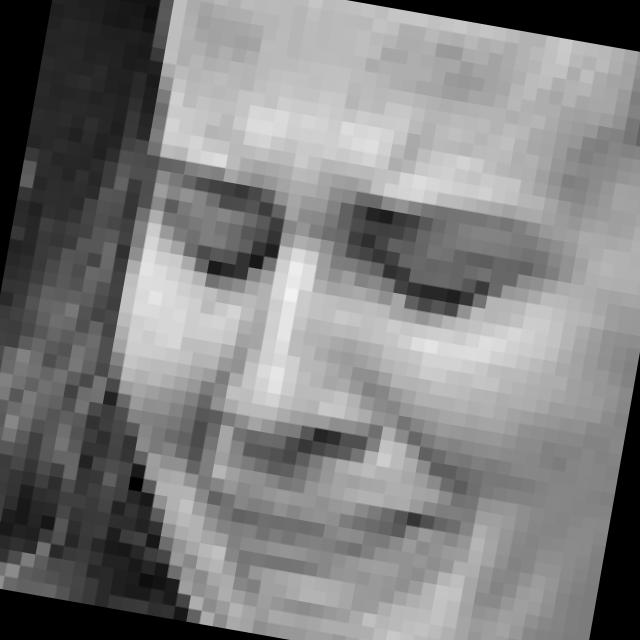sad: (85, 91, 584, 628)
